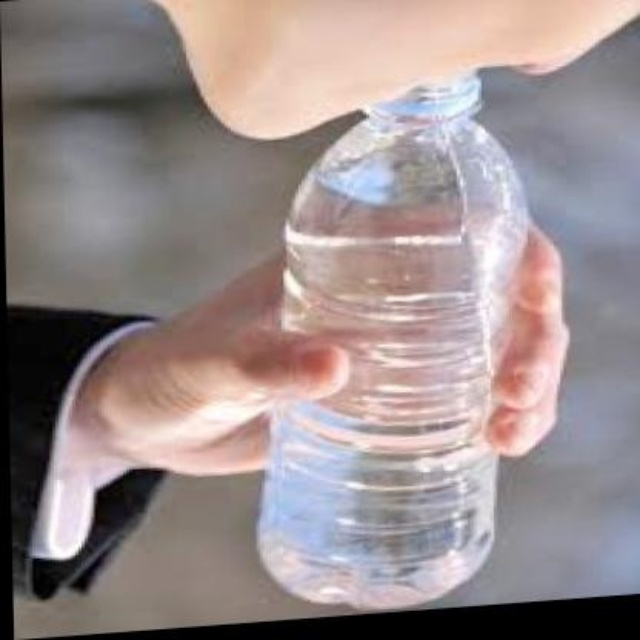trash: (258, 80, 526, 608)
